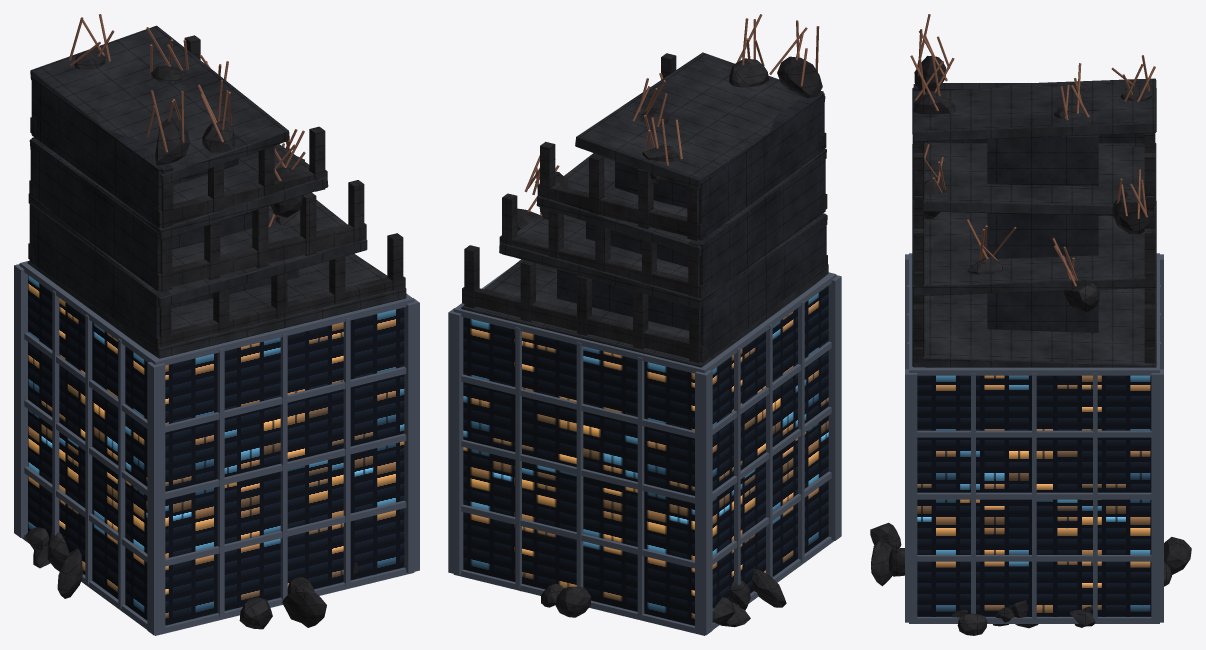
File: building_ruined_hq.glb
3 views of the same model, side by side, from view 1: azimuth 30°, elevation 25°; view 2: azimuth 150°, elevation 25°; view 3: azimuth 270°, elevation 25° (orthographic). The views are drawn at different scales.
Visible parts, largest first — view 1: BuildingRuinedHQ; view 2: BuildingRuinedHQ; view 3: BuildingRuinedHQ.
Boxes of the visible parts, x1,y1,x2,y2 form: BuildingRuinedHQ: (14,14,419,635); BuildingRuinedHQ: (448,14,841,635); BuildingRuinedHQ: (870,14,1191,635).
Bounding box in the file's own units: 15.33 × 26.35 × 15.03.
Materials: 7 (4 with a texture image).
